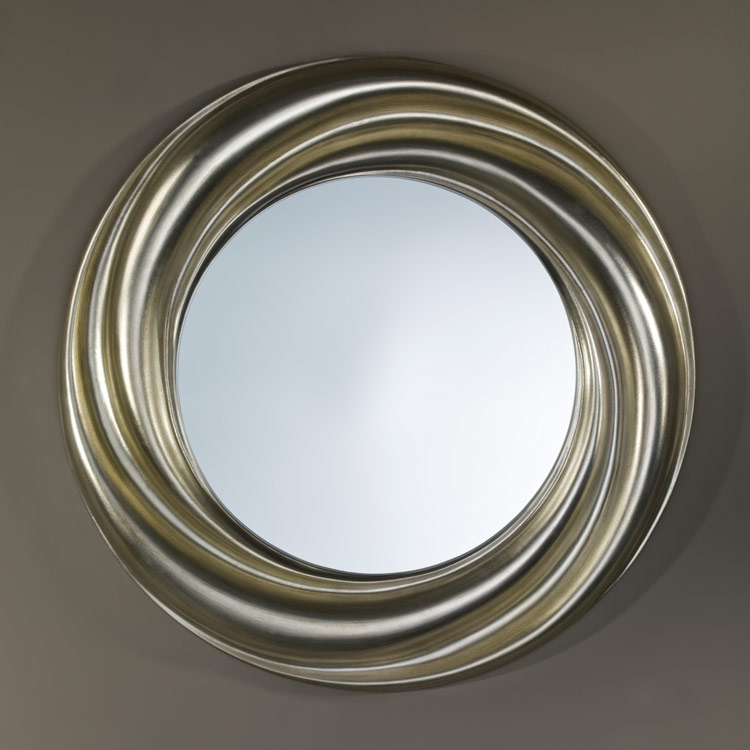Nonrec_Glass: (56, 52, 721, 666)
